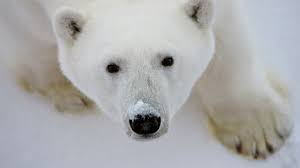PolarBear: (38, 0, 223, 144)
